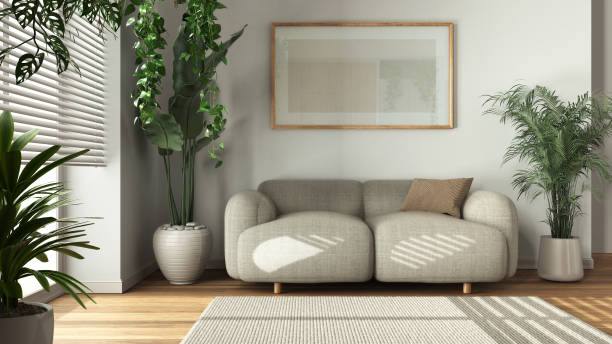large plant: (134, 15, 242, 286), (488, 83, 612, 282), (0, 107, 96, 343)
sofa: (222, 176, 521, 296)
wall art: (269, 18, 456, 131)
